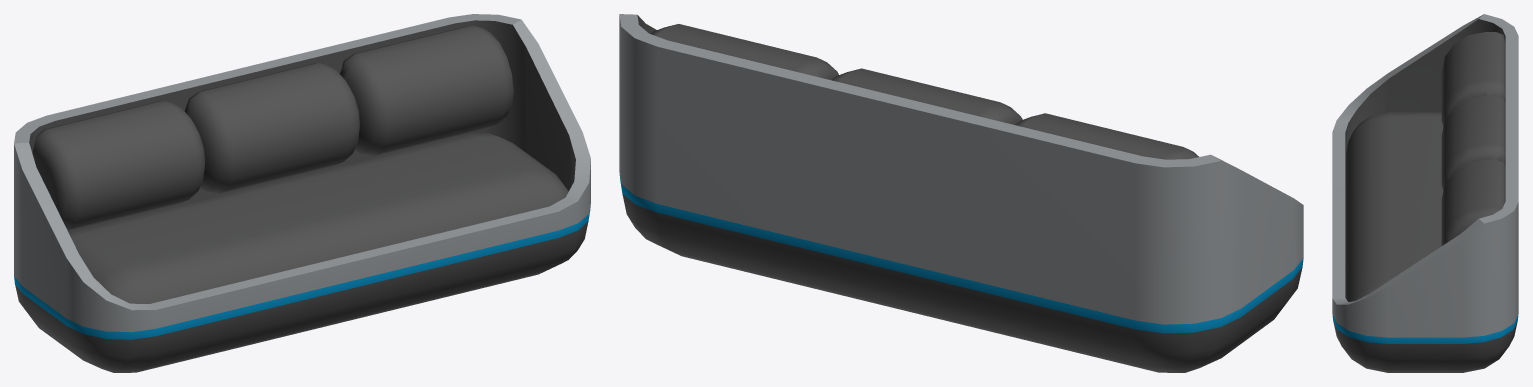
The model's file is Sofa_002.fbx.
3 views of the same model, side by side, from view 1: azimuth 30°, elevation 25°; view 2: azimuth 150°, elevation 25°; view 3: azimuth 270°, elevation 25° (orthographic). The views are drawn at different scales.
Parts seen in each view (by area): view 1: Sofa_002; view 2: Sofa_002; view 3: Sofa_002.
Boxes of the visible parts, <box> form: Sofa_002: <box>14,14,590,372</box>; Sofa_002: <box>619,14,1303,372</box>; Sofa_002: <box>1332,14,1518,372</box>.
Bounding box in the file's own units: 232 × 85.72 × 84.32.
